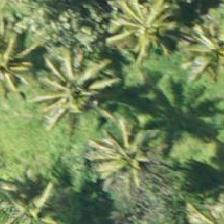coconut_tree: (71, 103, 161, 193), (47, 44, 137, 134), (24, 47, 114, 137), (79, 130, 169, 220), (90, 0, 180, 65), (170, 10, 223, 100), (0, 16, 51, 106), (0, 165, 78, 223)
